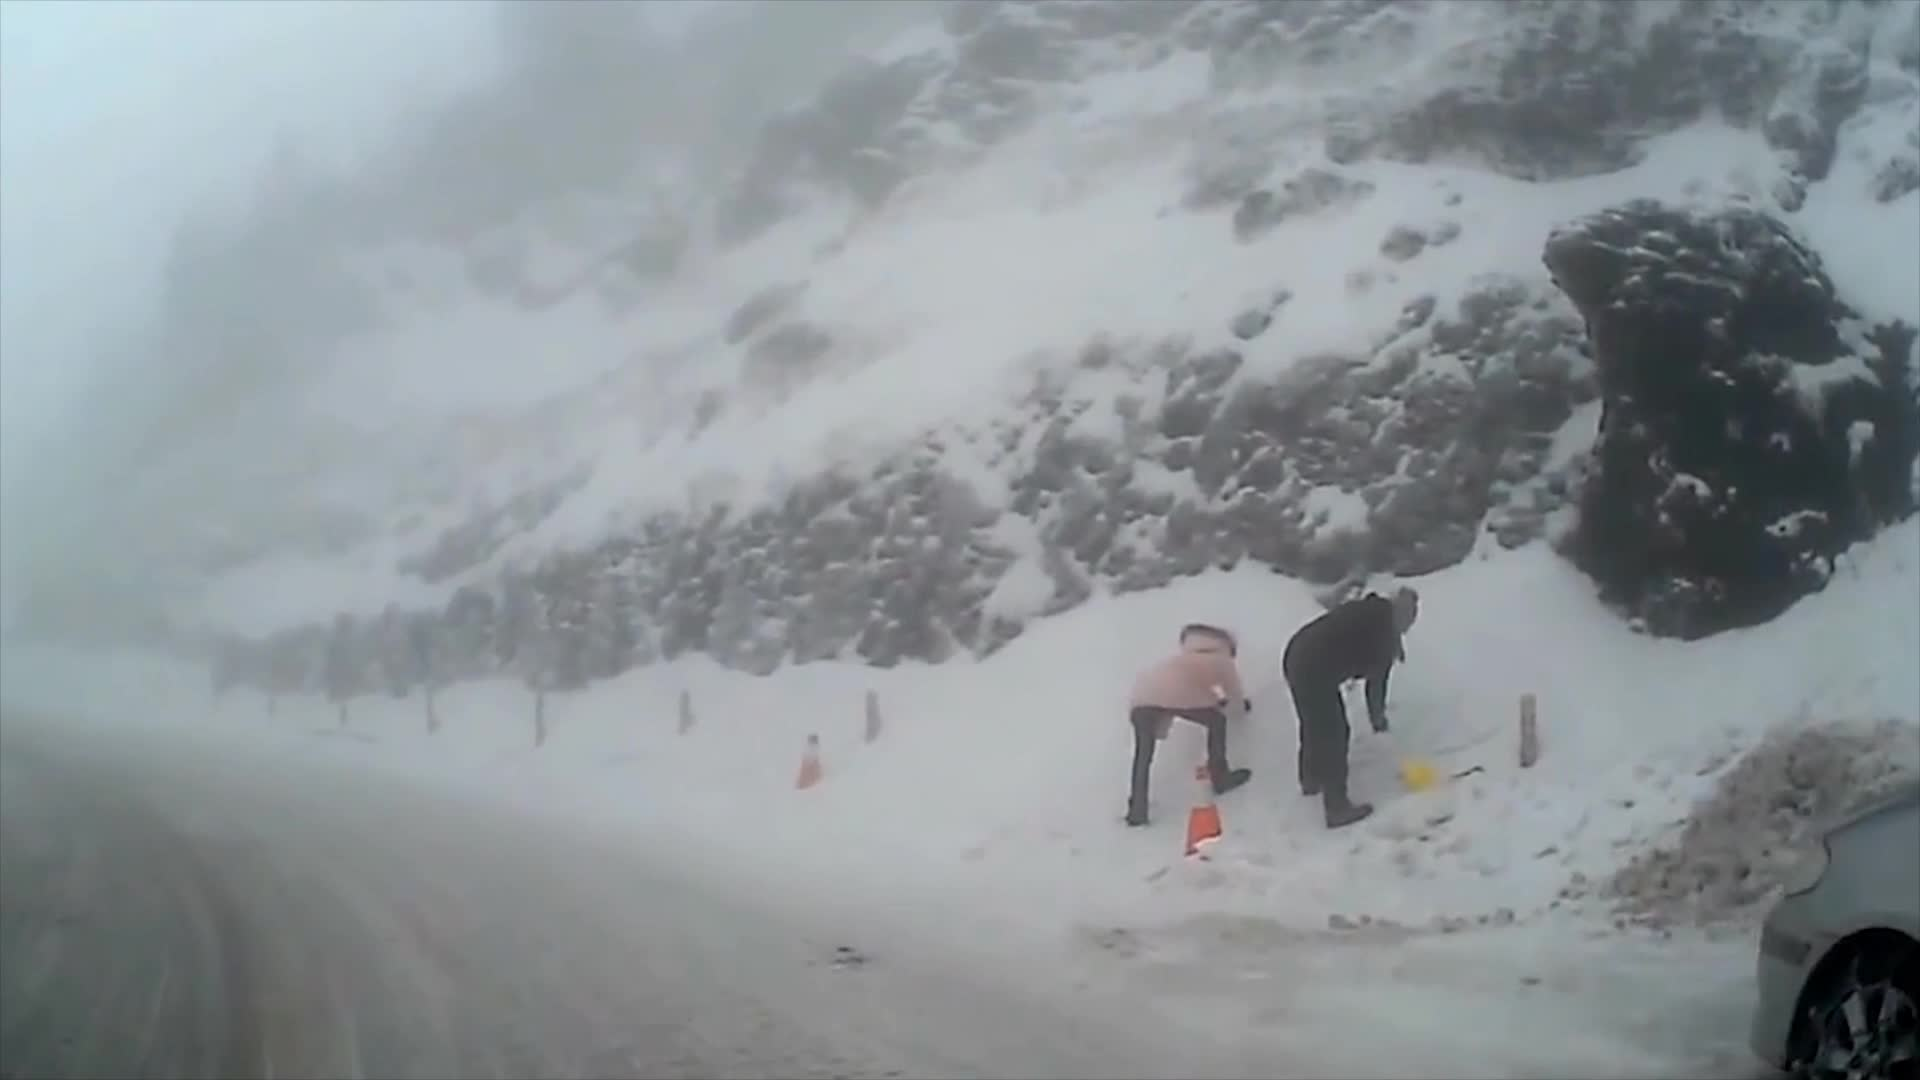pedestrian: (1284, 585, 1422, 823), (1125, 610, 1261, 828)
vehicle: (1745, 776, 1920, 1080)
